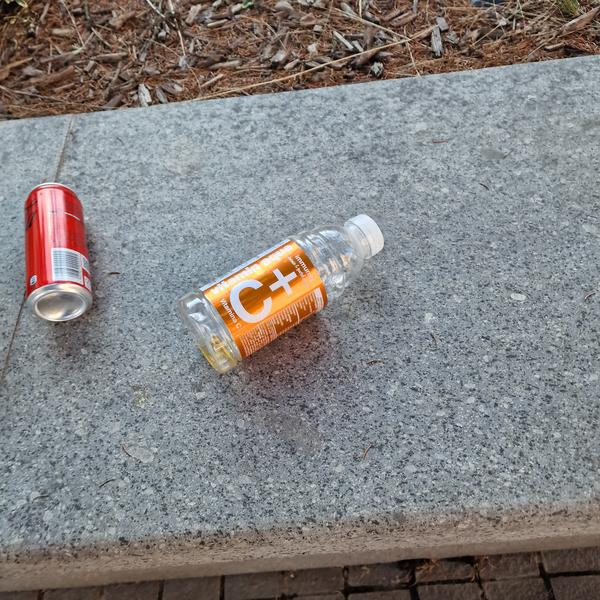can: (10, 178, 97, 329)
plastic_bottle: (171, 186, 403, 379)
